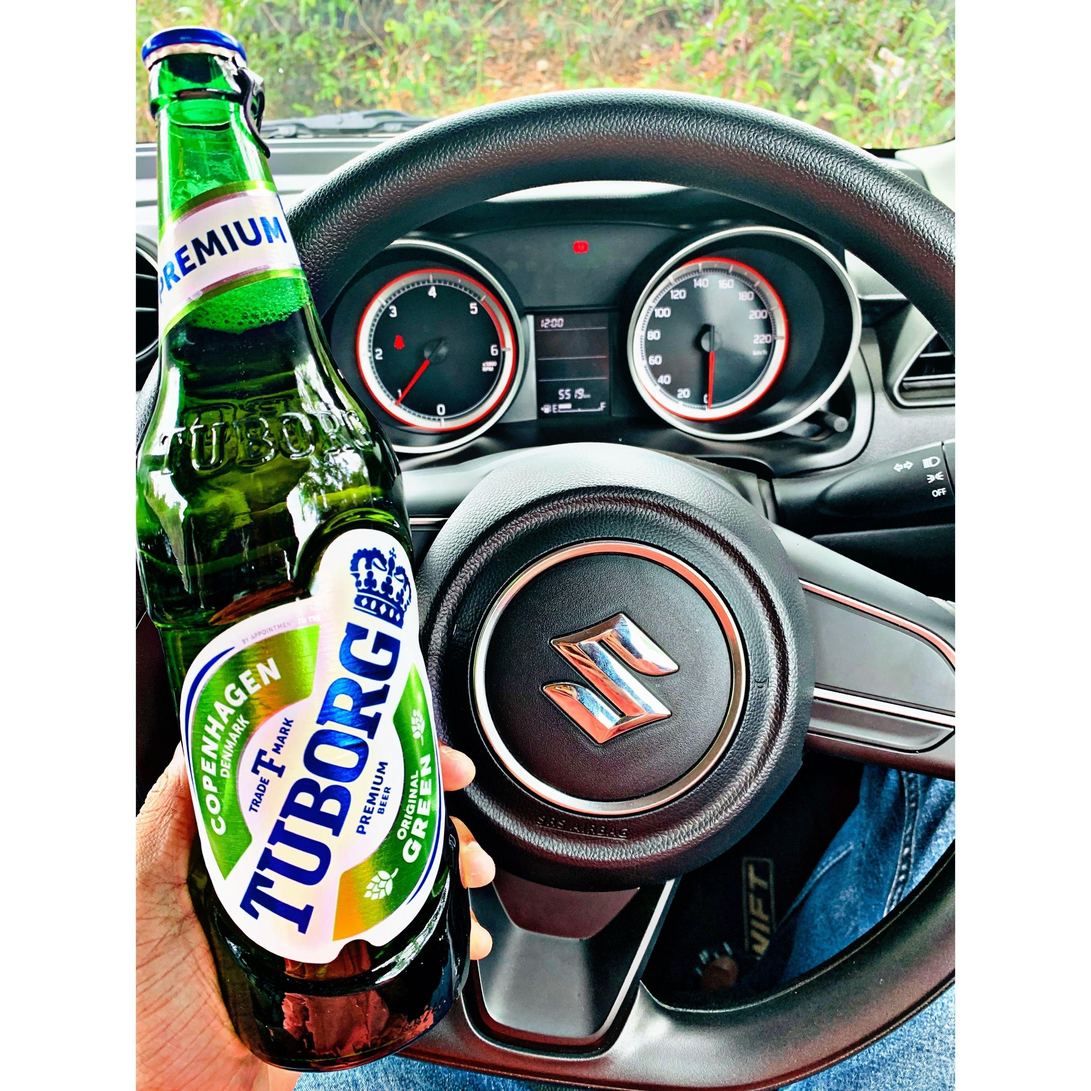bottle-glass: (124, 20, 481, 1081)
